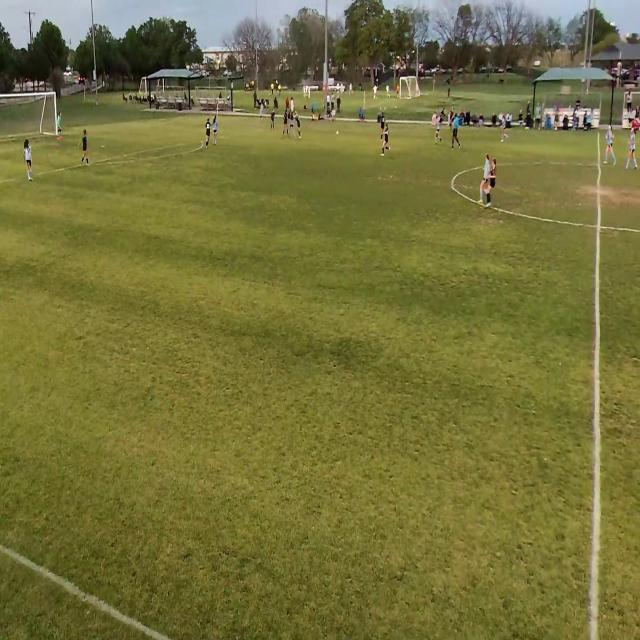ball: (336, 131, 339, 136)
team1: (488, 157, 500, 208), (82, 127, 91, 165), (204, 117, 212, 149), (295, 111, 304, 139), (383, 122, 390, 156), (270, 107, 278, 135), (282, 110, 288, 139), (380, 109, 384, 141)
team2: (605, 121, 617, 164), (628, 124, 638, 173), (481, 151, 489, 205), (24, 141, 34, 181), (435, 110, 444, 144), (212, 114, 219, 147), (290, 111, 295, 138)
